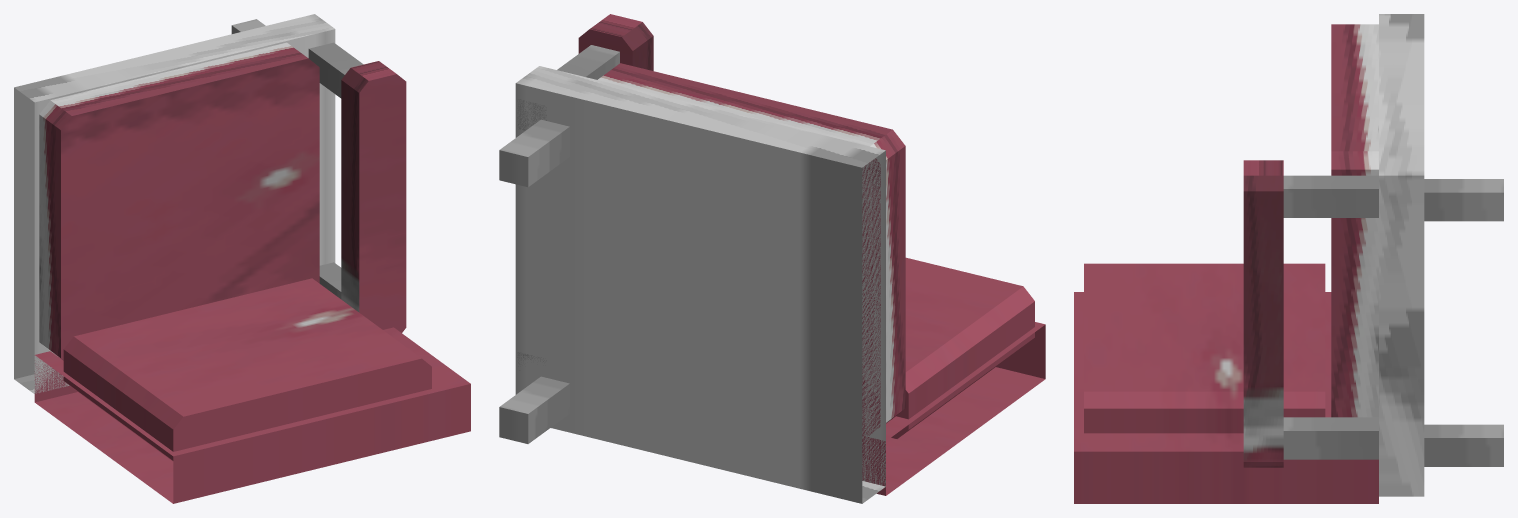
File: pz_sofa_seating_indoor_03_victorian_c1_1_0.obj
The picture shows the model from 3 angles, left to right: view 1: azimuth 30°, elevation 25°; view 2: azimuth 150°, elevation 25°; view 3: azimuth 270°, elevation 25°; orthographic projection. The views are drawn at different scales.
Size of the model in its own units: 0.99 by 0.915 by 1.08.
Materials: 1 (1 with a texture image).
